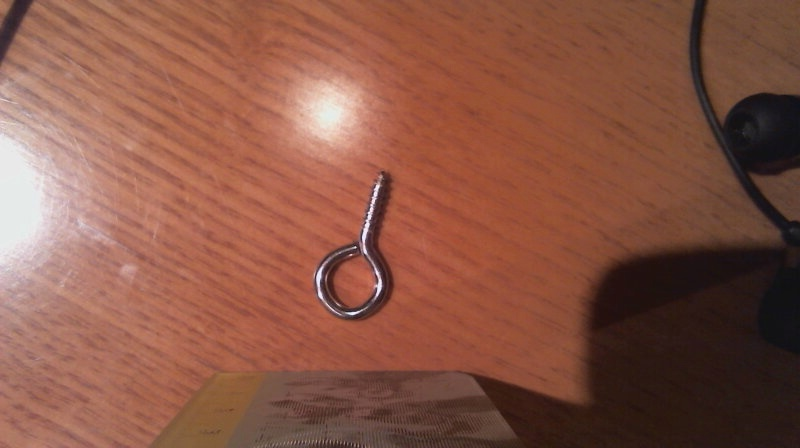O001: (310, 168, 399, 321)
